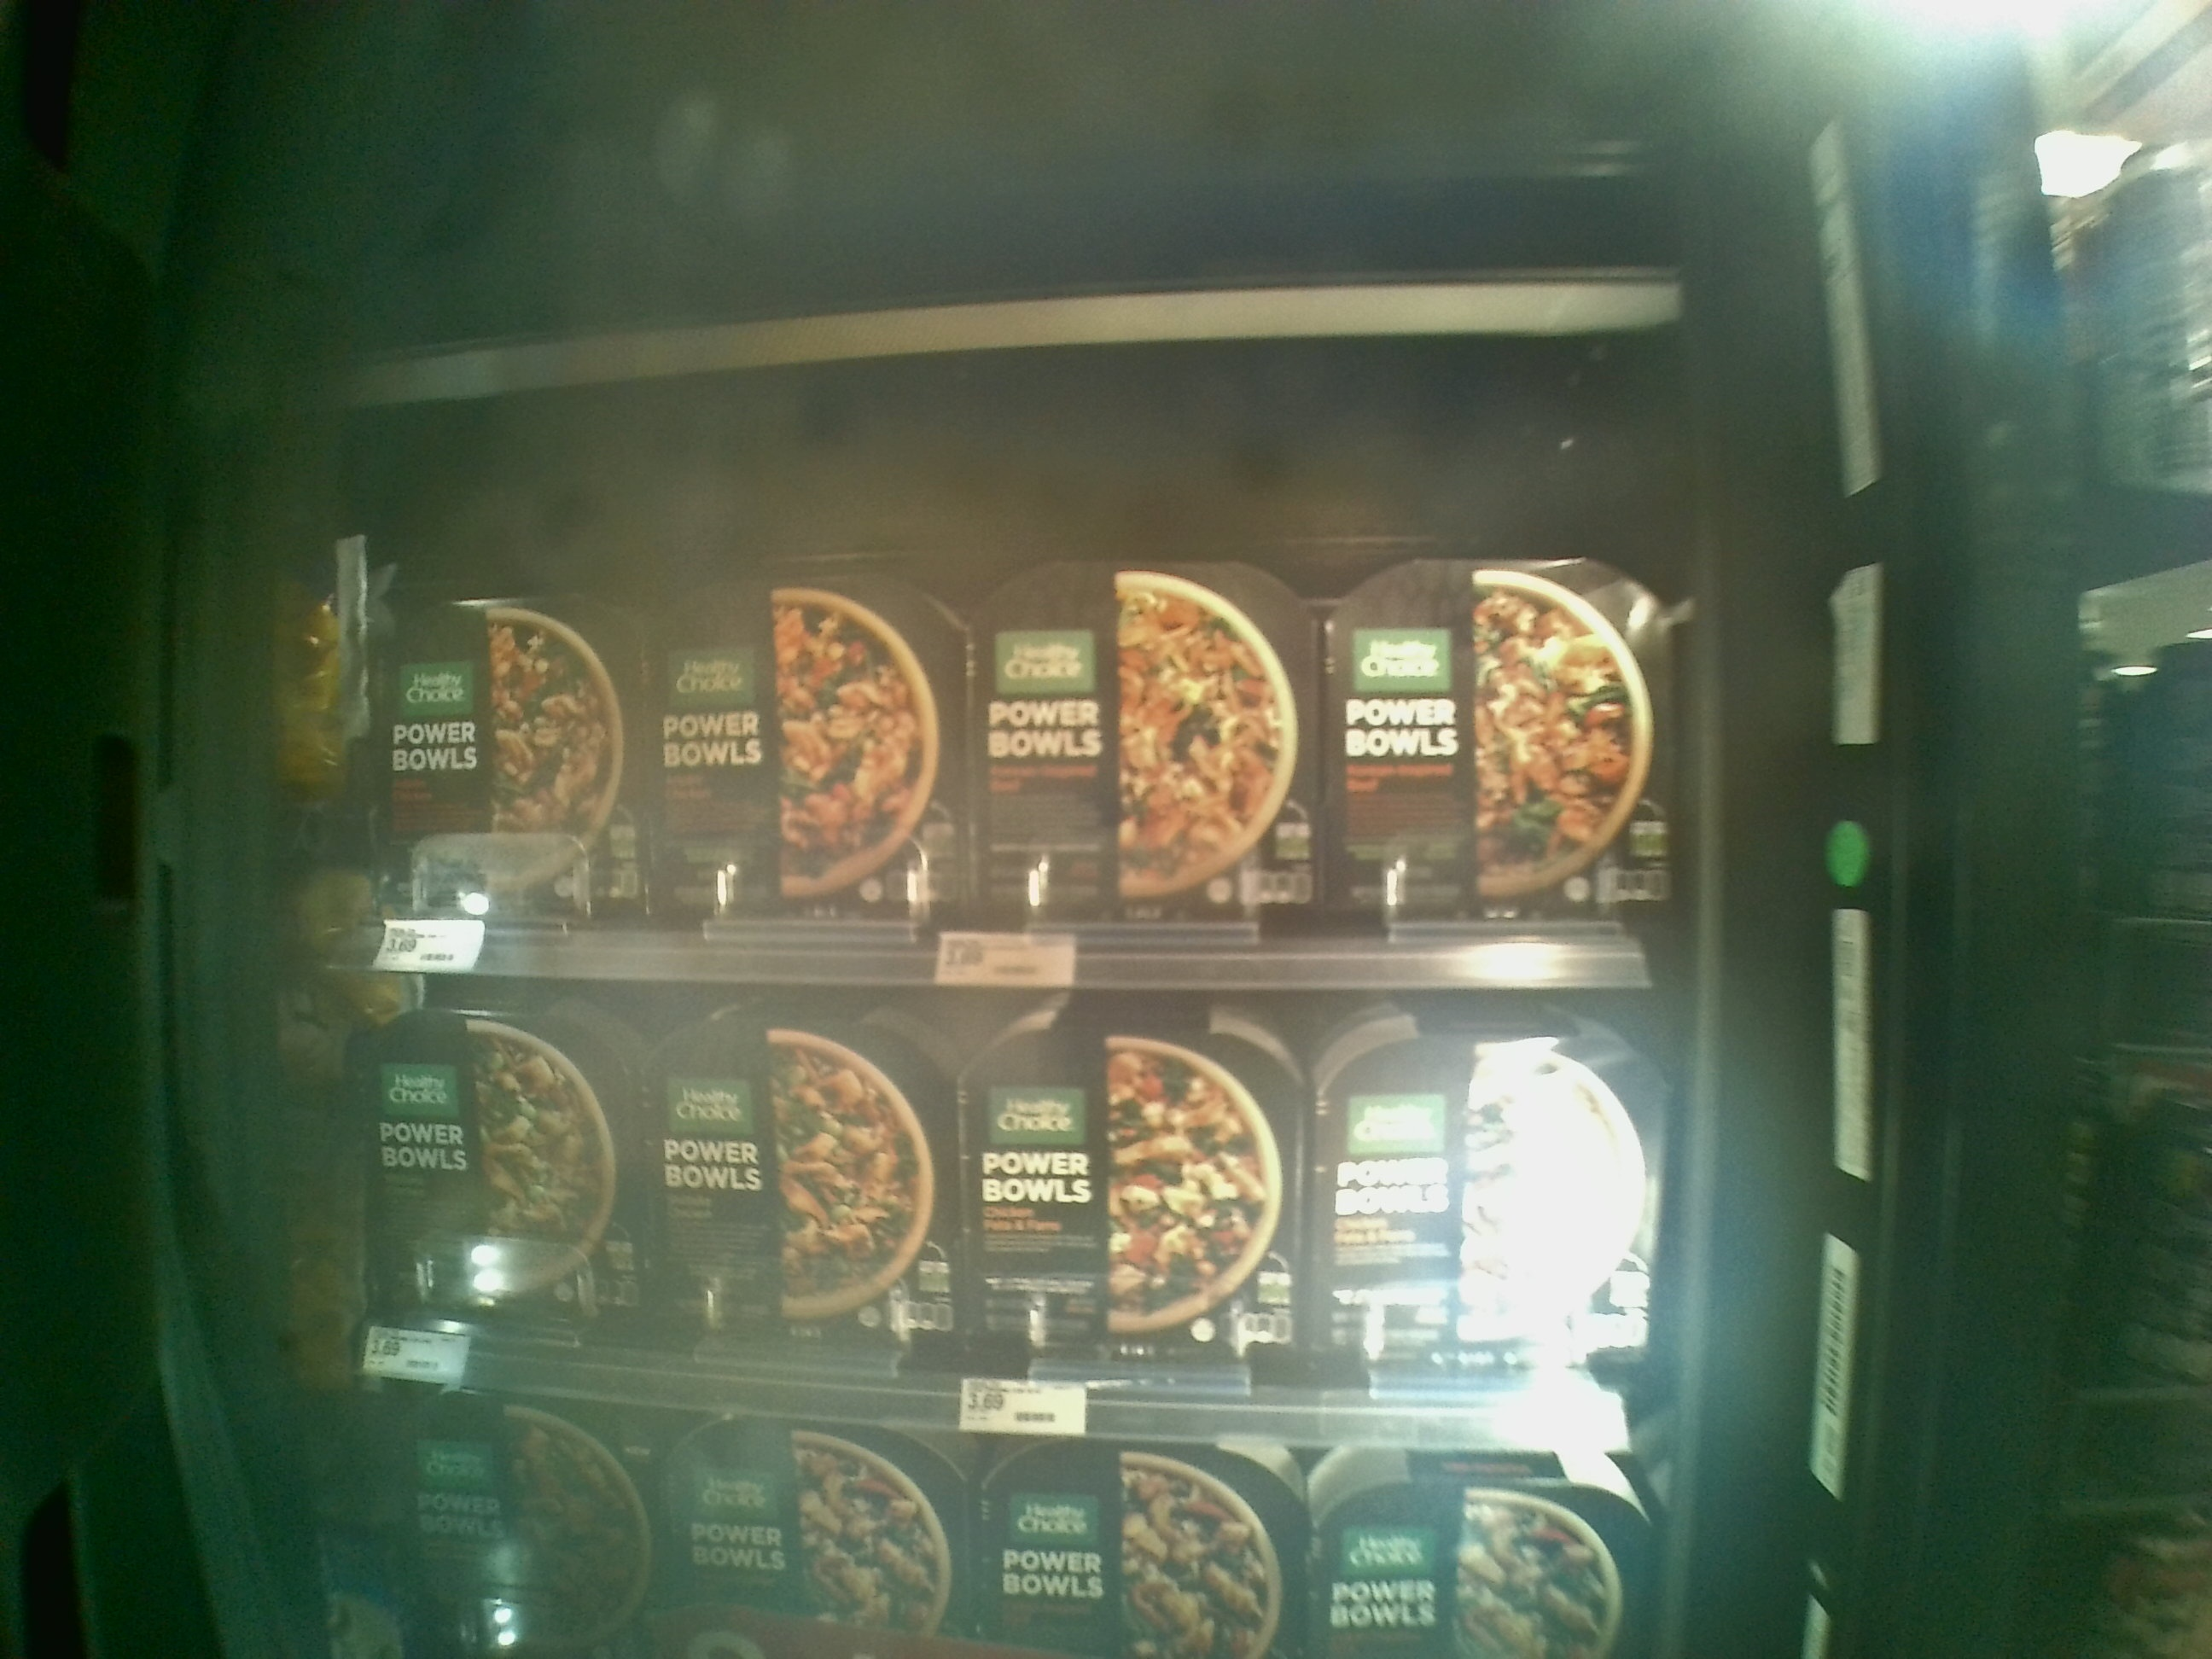shelf: (355, 955, 1646, 1445)
